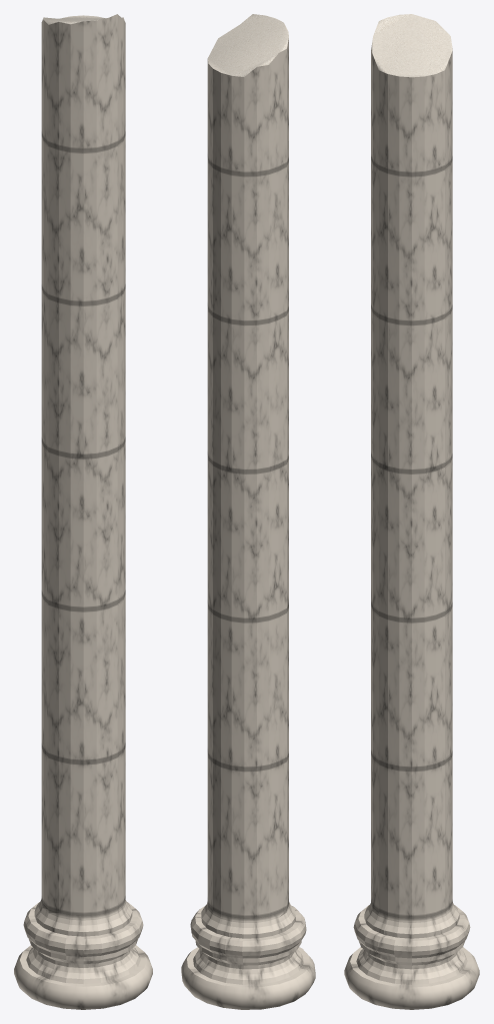
Rendered from Pillar_Broken_5.FBX.
The picture shows the model from 3 angles, left to right: view 1: azimuth 90°, elevation 25°; view 2: azimuth 210°, elevation 25°; view 3: azimuth 270°, elevation 25°; orthographic projection. The views are drawn at different scales.
Visible parts, largest first — view 1: Cylinder001; view 2: Cylinder001; view 3: Cylinder001.
Boxes of the visible parts, <box> form: Cylinder001: <box>14,14,152,1009</box>; Cylinder001: <box>181,14,315,1009</box>; Cylinder001: <box>344,14,479,1009</box>.
Bounding box in the file's own units: 22.28 × 173 × 22.28.
